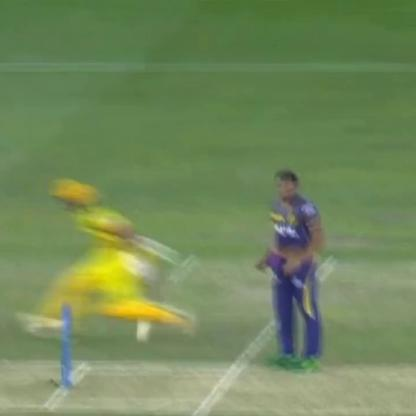bat: (135, 251, 161, 343)
pitch: (3, 358, 414, 416)
